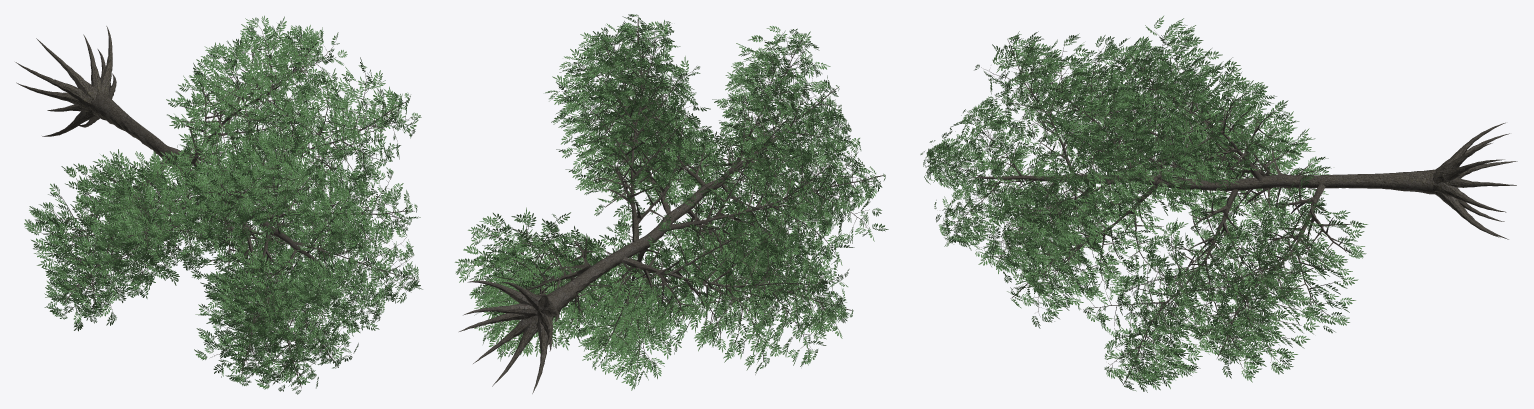
3 views of the same model, side by side, from view 1: azimuth 30°, elevation 25°; view 2: azimuth 150°, elevation 25°; view 3: azimuth 270°, elevation 25° (orthographic). The views are drawn at different scales.
Visible parts, largest first — view 1: BL04m; view 2: BL04m; view 3: BL04m.
Part boxes in pixels (x1,y1,x2,y2): BL04m: (15,15,422,394); BL04m: (455,14,888,393); BL04m: (920,16,1517,392).
Size of the model in its own units: 124 by 120 by 181.
2 materials, 2 textured.
